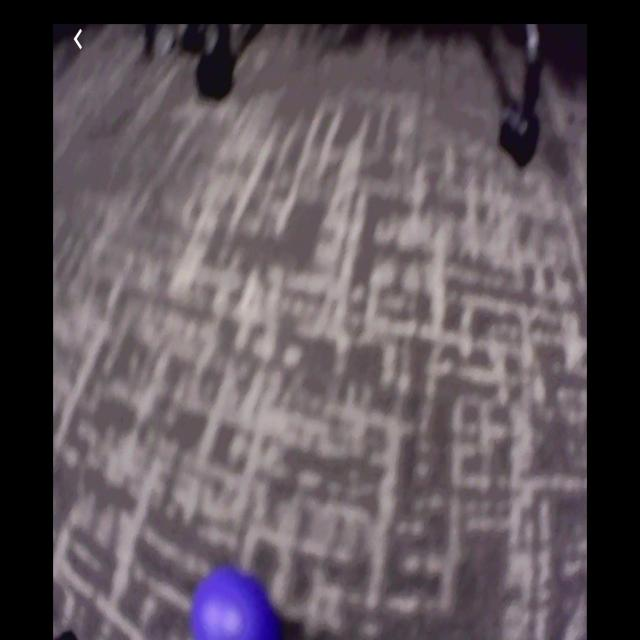ball: (190, 571, 284, 640)
